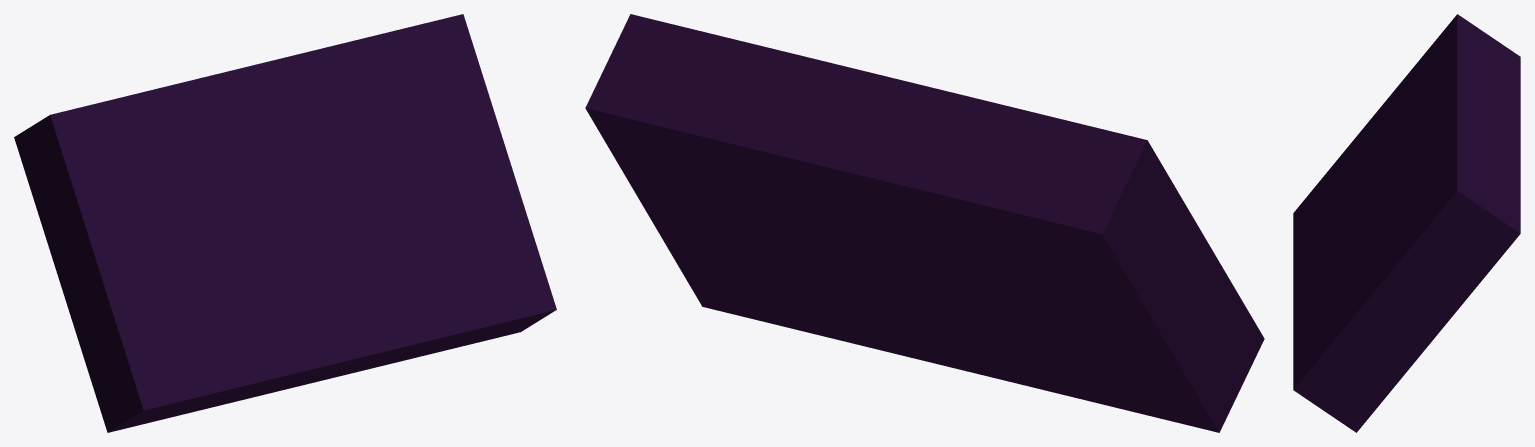
Rendered from lowpoly.gltf.
The picture shows the model from 3 angles, left to right: view 1: azimuth 30°, elevation 25°; view 2: azimuth 150°, elevation 25°; view 3: azimuth 270°, elevation 25°; orthographic projection. The views are drawn at different scales.
Parts seen in each view (by area): view 1: lowpoly; view 2: lowpoly; view 3: lowpoly.
Part boxes in pixels (x1,y1,x2,y2): lowpoly: [14, 14, 556, 432]; lowpoly: [585, 14, 1264, 432]; lowpoly: [1293, 14, 1520, 432].
Bounding box in the file's own units: 10.59 × 6.76 × 5.76.
